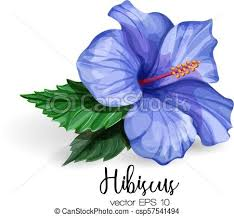hybiscus: (78, 3, 233, 162)
